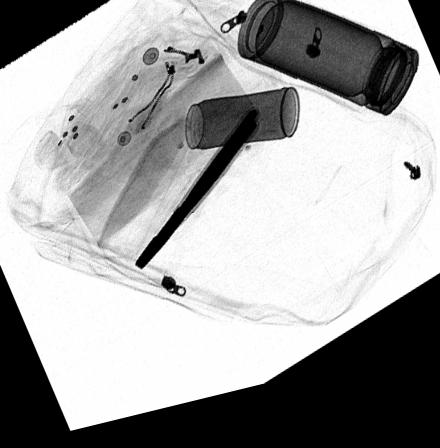Pliers: (134, 119, 261, 277)
